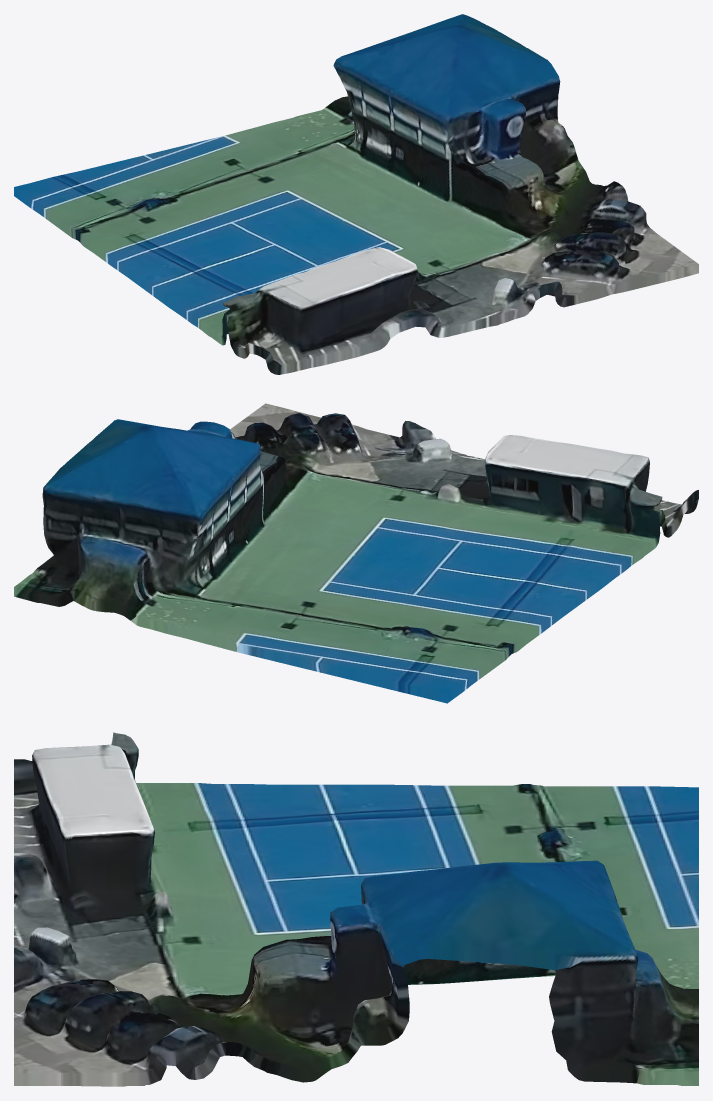
File: z20-167782-405215-h0-yup-uvflip-v3-world.glb
3 renders of one model, top to bottom at view 1: azimuth 30°, elevation 25°; view 2: azimuth 150°, elevation 25°; view 3: azimuth 270°, elevation 25°, orthographic. The views are drawn at different scales.
Size of the model in its own units: 30.16 by 8.96 by 30.32.
Materials: 1 (1 with a texture image).
